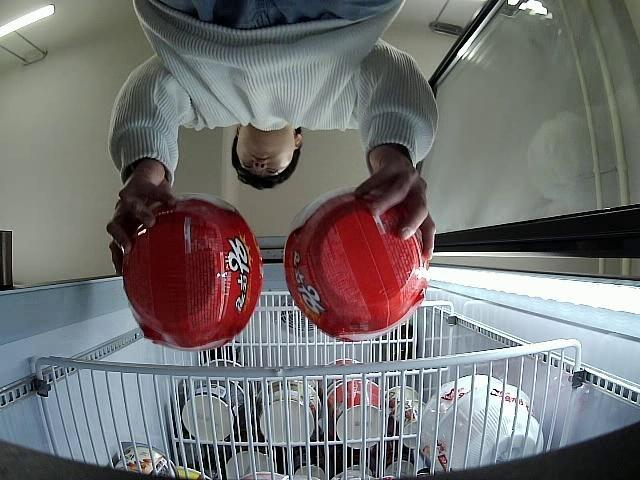10_wangTtukkeong: (123, 192, 262, 351), (284, 187, 428, 340)
